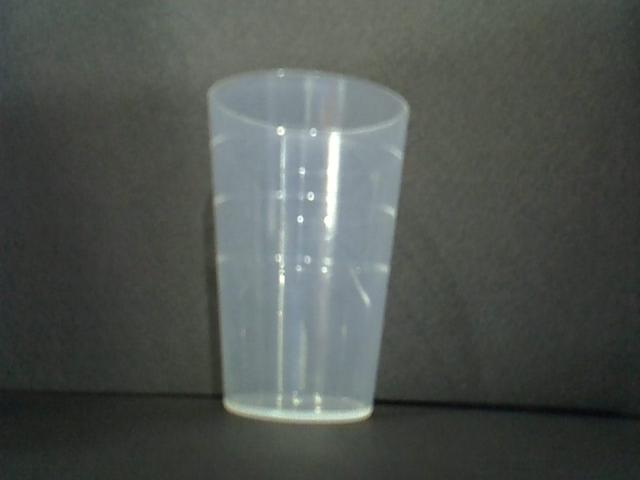cup: (205, 68, 414, 426)
